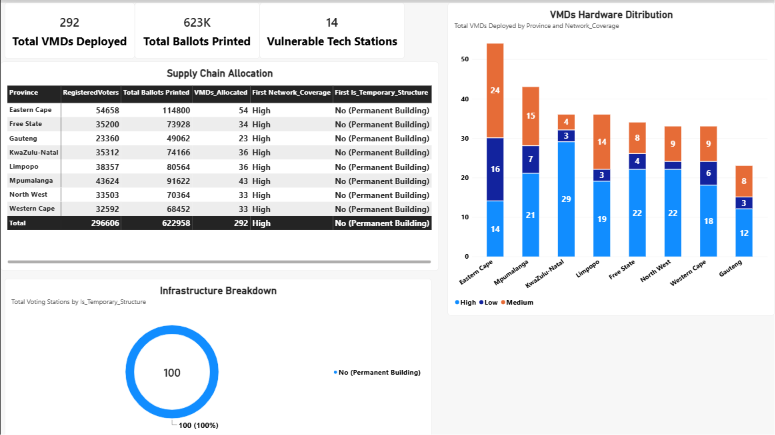

This screenshot's page, from the dashboard's own definition file:
{"tool":"powerbi","page":{"name":"Hardware, Supply Chain & Field Infrastructure","canvas":[1920,1080],"ordinal":1},"visuals":[{"type":"card","fields":{"Values":["voting_stations_master.Total VMDs Deployed"]},"box":[9.9,0,322.3,138.9],"z":0},{"type":"card","fields":{"Values":["voting_stations_master.Total Ballots Printed"]},"box":[332.3,0,309.9,138.9],"z":1},{"type":"card","fields":{"Values":["voting_stations_master.Vulnerable Tech Stations"]},"box":[642.2,0,359.5,138.9],"z":3},{"type":"donutChart","title":"Infrastructure Breakdown","fields":{"Category":["voting_stations_master.Is_Temporary_Structure"],"Y":["voting_stations_master.Total Voting Stations"]},"box":[9.9,684.4,1058.8,396.7],"z":4},{"type":"columnChart","title":" VMDs Hardware Ditribution","fields":{"Category":["voting_stations_master.Province"],"Y":["voting_stations_master.Total VMDs Deployed"],"Series":["voting_stations_master.Network_Coverage"]},"box":[1108.4,0,810.8,776.1],"z":5},{"type":"pivotTable","title":"Supply Chain Allocation","fields":{"Rows":["voting_stations_master.Province"],"Values":["Sum(voting_stations_master.RegisteredVoters)","voting_stations_master.Total Ballots Printed","Sum(df_base.VMDs_Allocated)","Min(df_base.Network_Coverage)","Min(df_base.Is_Temporary_Structure)"]},"box":[0,146.3,1086.1,518.2],"z":6}]}

Visuals, with their boxes in screenshot pixels (x1, y1, x2, y2), scaled from the page's 1920x1080 canvas onto the 775x435 screenshot:
card - voting_stations_master.Total VMDs Deployed: <region>4, 0, 134, 56</region>
card - voting_stations_master.Total Ballots Printed: <region>134, 0, 259, 56</region>
card - voting_stations_master.Vulnerable Tech Stations: <region>259, 0, 404, 56</region>
"Infrastructure Breakdown" donutChart: <region>4, 276, 431, 434</region>
" VMDs Hardware Ditribution" columnChart: <region>447, 0, 774, 313</region>
"Supply Chain Allocation" pivotTable: <region>0, 59, 438, 268</region>
